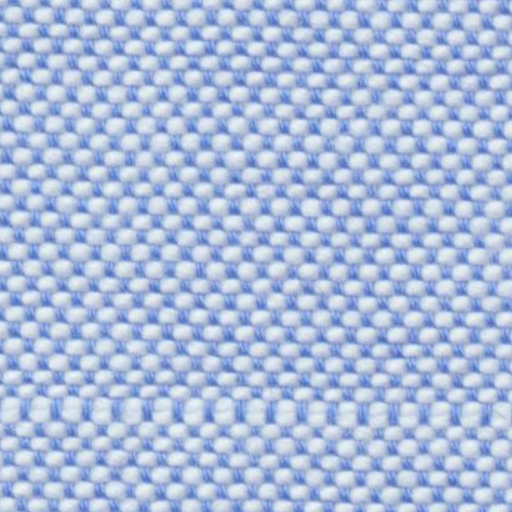TuoSha: (10, 359, 498, 458)
